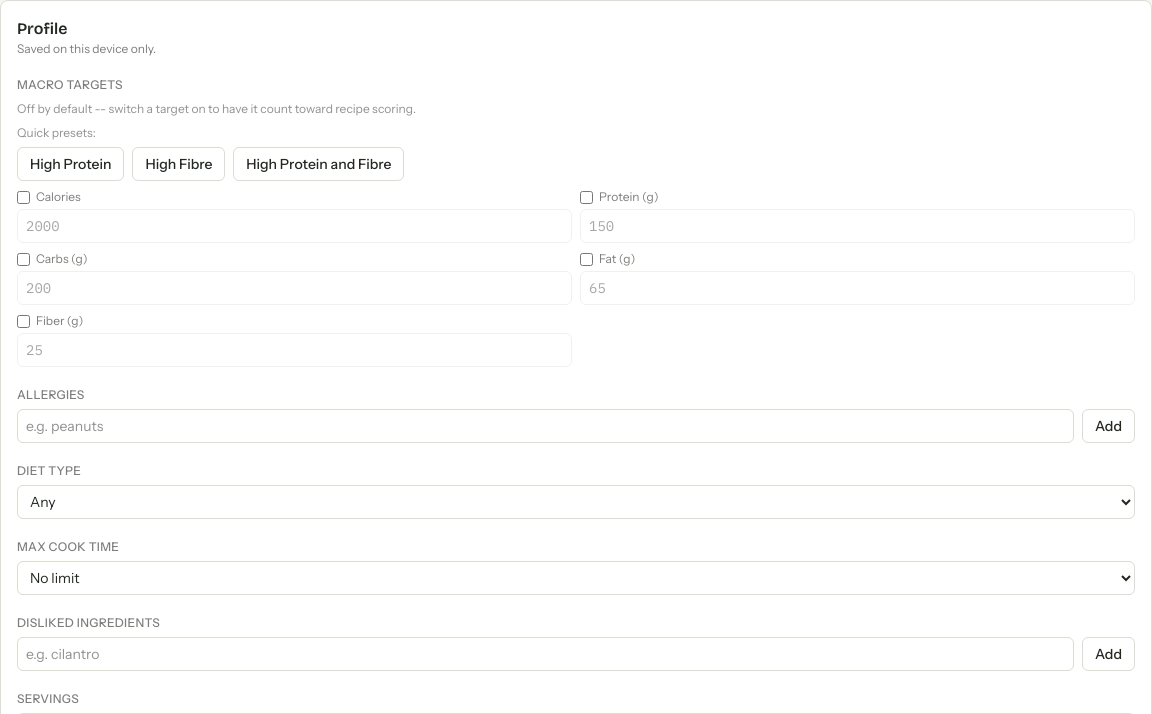
Test: ProfileForm macro toggles › enables the NumberField and sends its number once the checkbox is checked
The width and height of the screenshot is (1152, 714).
Step 1. Click the checkbox named "Enable Calories target" → (24, 197), box [17,190,30,204]
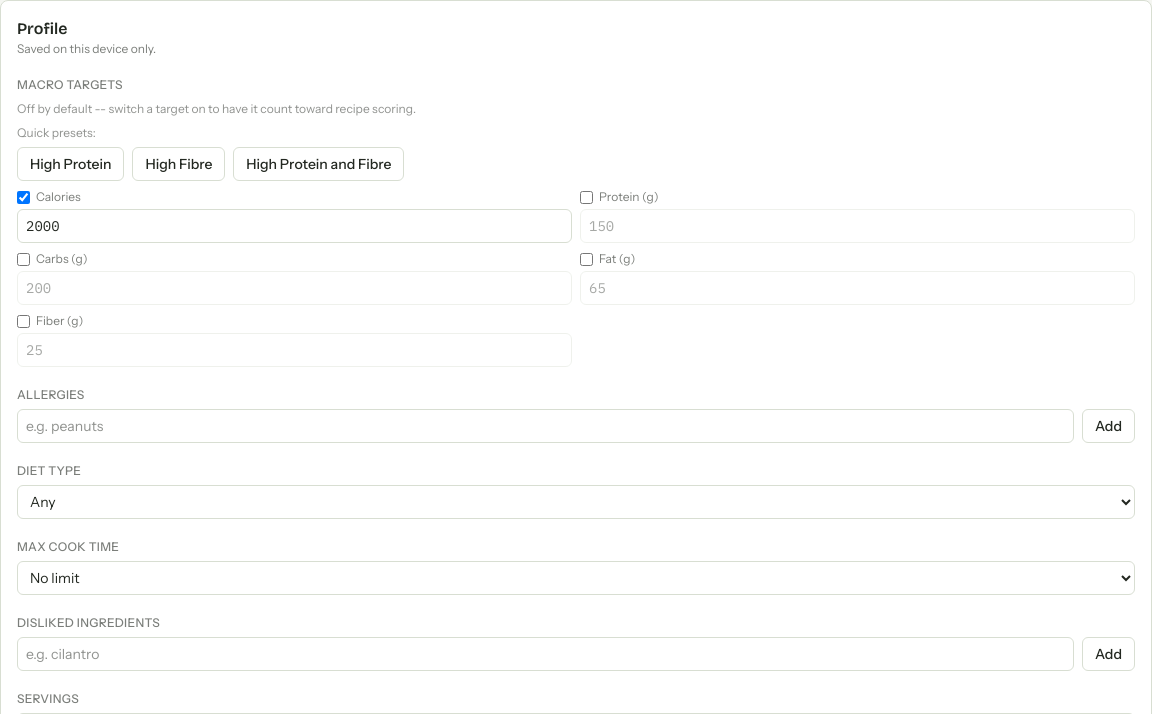
Check: the number field named "Calories" below "Calories" is enabled, box [17,209,572,243]
